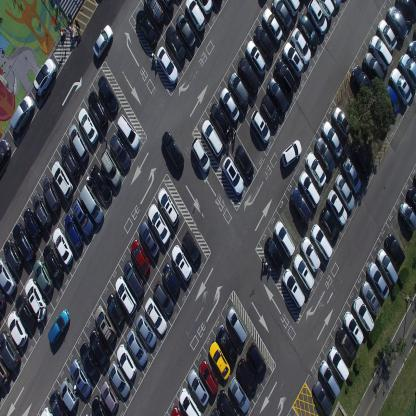car: (9, 94, 35, 134), (79, 183, 104, 224), (147, 203, 170, 247), (94, 302, 117, 346), (282, 268, 306, 309), (70, 197, 94, 237), (32, 58, 56, 98), (161, 130, 185, 170), (366, 260, 390, 300), (12, 221, 35, 262), (155, 46, 179, 85), (116, 114, 140, 153), (50, 161, 74, 200), (319, 358, 341, 400), (91, 165, 114, 205), (216, 323, 239, 363), (351, 64, 374, 104), (310, 223, 334, 261), (208, 340, 230, 381), (115, 274, 137, 315), (100, 147, 122, 188), (88, 328, 110, 369), (290, 186, 313, 225), (47, 308, 71, 345), (68, 124, 90, 164), (170, 244, 192, 284), (175, 12, 197, 52), (138, 219, 160, 259), (222, 155, 244, 195), (157, 187, 179, 227), (24, 277, 46, 317), (322, 120, 344, 160), (144, 297, 167, 335), (273, 58, 296, 96), (369, 34, 392, 72), (109, 133, 131, 172), (60, 143, 82, 182), (201, 118, 223, 157), (70, 358, 92, 397), (187, 367, 209, 406), (252, 23, 275, 60), (87, 89, 108, 129), (79, 341, 100, 381), (298, 11, 319, 51), (299, 170, 320, 210), (227, 70, 249, 108), (135, 8, 157, 46), (96, 76, 118, 114), (126, 328, 148, 366), (292, 253, 314, 291), (108, 360, 130, 398), (32, 258, 54, 296), (238, 56, 260, 94), (228, 375, 250, 413), (314, 136, 336, 174), (390, 66, 412, 104), (376, 248, 398, 286), (328, 344, 350, 382), (0, 330, 20, 371), (14, 292, 35, 331), (152, 279, 174, 316), (164, 25, 186, 62), (363, 51, 385, 88), (352, 295, 374, 332), (78, 106, 98, 146), (335, 172, 355, 212), (209, 101, 230, 139), (123, 260, 144, 298), (116, 342, 137, 380), (226, 305, 247, 343), (274, 220, 295, 258), (52, 227, 73, 265), (327, 188, 348, 226), (135, 313, 157, 349), (266, 77, 288, 113), (6, 311, 28, 347), (386, 4, 408, 40), (220, 85, 240, 124), (63, 213, 83, 252), (198, 358, 219, 395), (300, 235, 321, 272), (360, 279, 381, 316), (343, 309, 364, 346), (282, 41, 304, 76), (246, 39, 266, 77), (291, 27, 311, 65), (184, 0, 207, 33), (181, 230, 202, 266), (250, 108, 271, 144), (92, 23, 113, 59), (336, 326, 357, 362), (130, 239, 150, 276), (247, 342, 267, 379), (190, 136, 210, 173), (32, 192, 52, 229), (307, 0, 327, 37), (398, 51, 416, 92), (237, 358, 258, 393), (42, 175, 61, 213), (264, 236, 284, 272), (306, 152, 326, 188), (312, 379, 332, 415), (43, 243, 62, 280), (343, 156, 361, 195), (260, 93, 280, 128), (331, 105, 351, 140), (320, 206, 340, 241), (270, 0, 293, 30), (235, 144, 254, 180), (59, 377, 79, 411), (22, 208, 42, 242), (262, 8, 282, 42), (385, 232, 405, 266), (354, 140, 372, 177), (161, 262, 180, 297), (280, 138, 302, 168), (378, 18, 398, 51), (3, 238, 22, 272), (179, 387, 202, 415), (0, 256, 16, 296), (106, 292, 124, 327), (100, 380, 118, 413), (383, 83, 400, 117), (142, 0, 164, 26), (216, 388, 237, 415), (399, 200, 415, 233), (49, 390, 69, 415), (396, 0, 416, 22), (91, 394, 109, 415), (0, 138, 11, 172), (317, 0, 334, 22), (0, 358, 11, 389), (282, 0, 300, 16), (406, 185, 416, 213), (195, 0, 212, 15), (407, 40, 416, 65), (158, 0, 175, 12), (0, 288, 7, 312), (170, 405, 183, 415), (40, 407, 54, 415), (210, 406, 221, 416), (330, 0, 341, 9)
